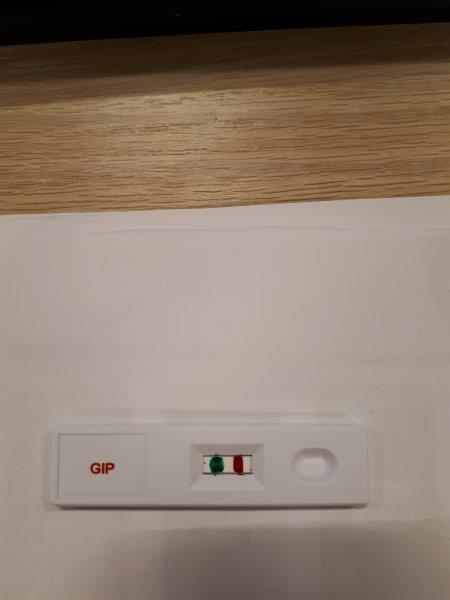Positive: (51, 425, 373, 509)
